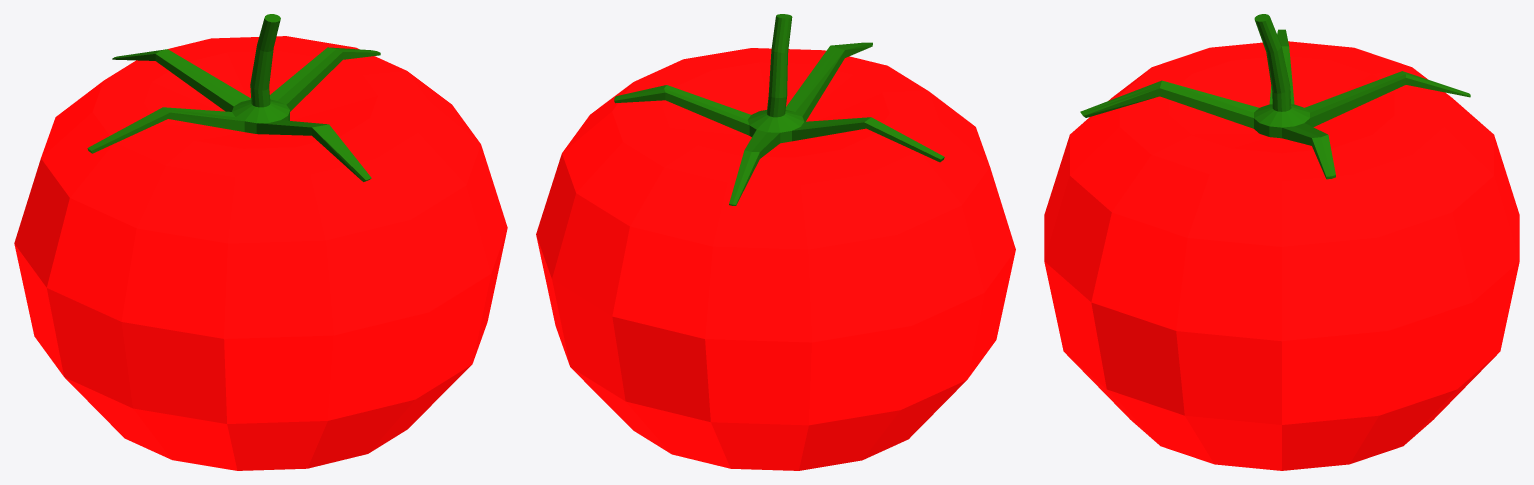
The model's file is tomato4.glb.
3 views of the same model, side by side, from view 1: azimuth 30°, elevation 25°; view 2: azimuth 150°, elevation 25°; view 3: azimuth 270°, elevation 25° (orthographic). The views are drawn at different scales.
Visible parts, largest first — view 1: Sphere, Sphere_1; view 2: Sphere, Sphere_1; view 3: Sphere, Sphere_1.
Part boxes in pixels (x1,y1,x2,y2): Sphere: [14, 36, 507, 470]; Sphere_1: [87, 14, 380, 181]; Sphere: [536, 48, 1015, 470]; Sphere_1: [614, 14, 944, 205]; Sphere: [1044, 41, 1519, 470]; Sphere_1: [1080, 14, 1470, 179].
Size of the model in its own units: 310 by 297 by 302.
